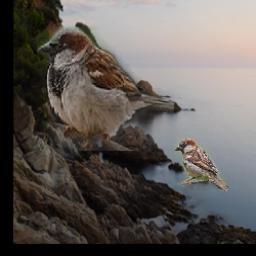Sparrow: (37, 27, 174, 152), (175, 139, 229, 192)
